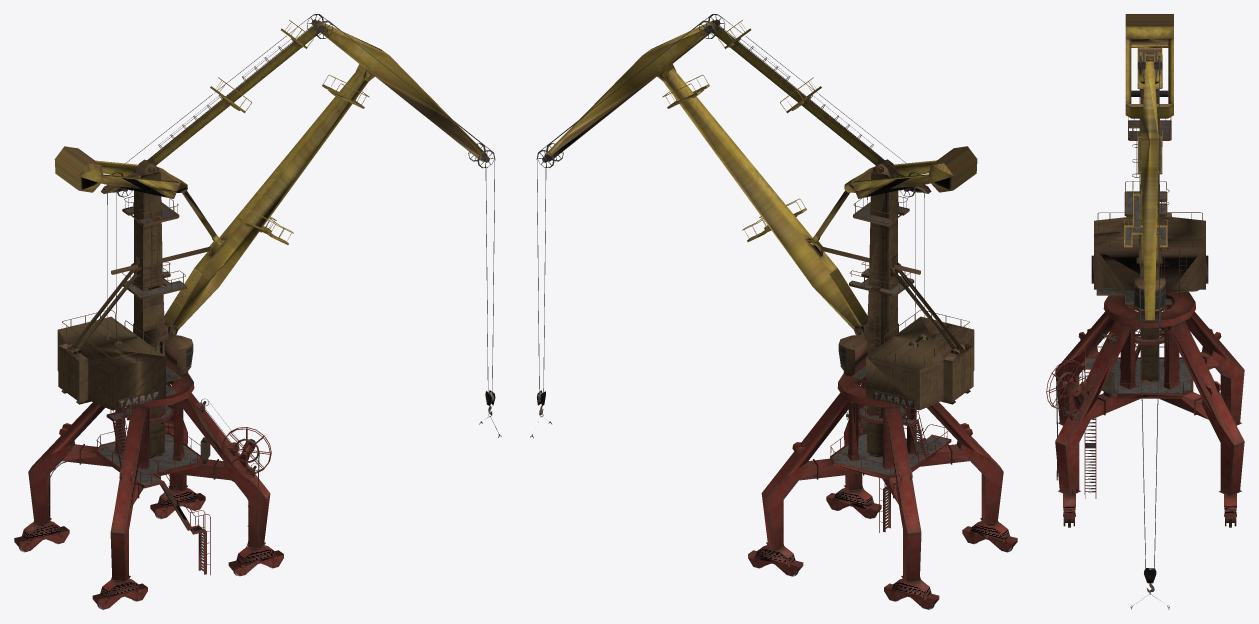
The model's file is m_crane.glb.
3 renders of one model, left to right at view 1: azimuth 30°, elevation 25°; view 2: azimuth 150°, elevation 25°; view 3: azimuth 270°, elevation 25°, orthographic. The views are drawn at different scales.
Visible parts, largest first — view 1: body|Body, body|Details; view 2: body|Body, body|Details; view 3: body|Body, body|Details.
Boxes of the visible parts, box(x1,y1,x2,y2) form: body|Body: box(14, 14, 495, 609); body|Details: box(62, 14, 501, 575); body|Body: box(537, 14, 1017, 609); body|Details: box(530, 14, 969, 532); body|Body: box(1055, 14, 1244, 592); body|Details: box(1046, 43, 1202, 609).
Size of the model in its own units: 37.2 by 40.77 by 14.26.
2 materials, 2 textured.
